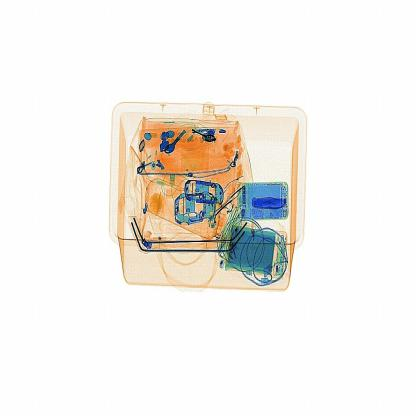knife: (249, 194, 287, 215)
